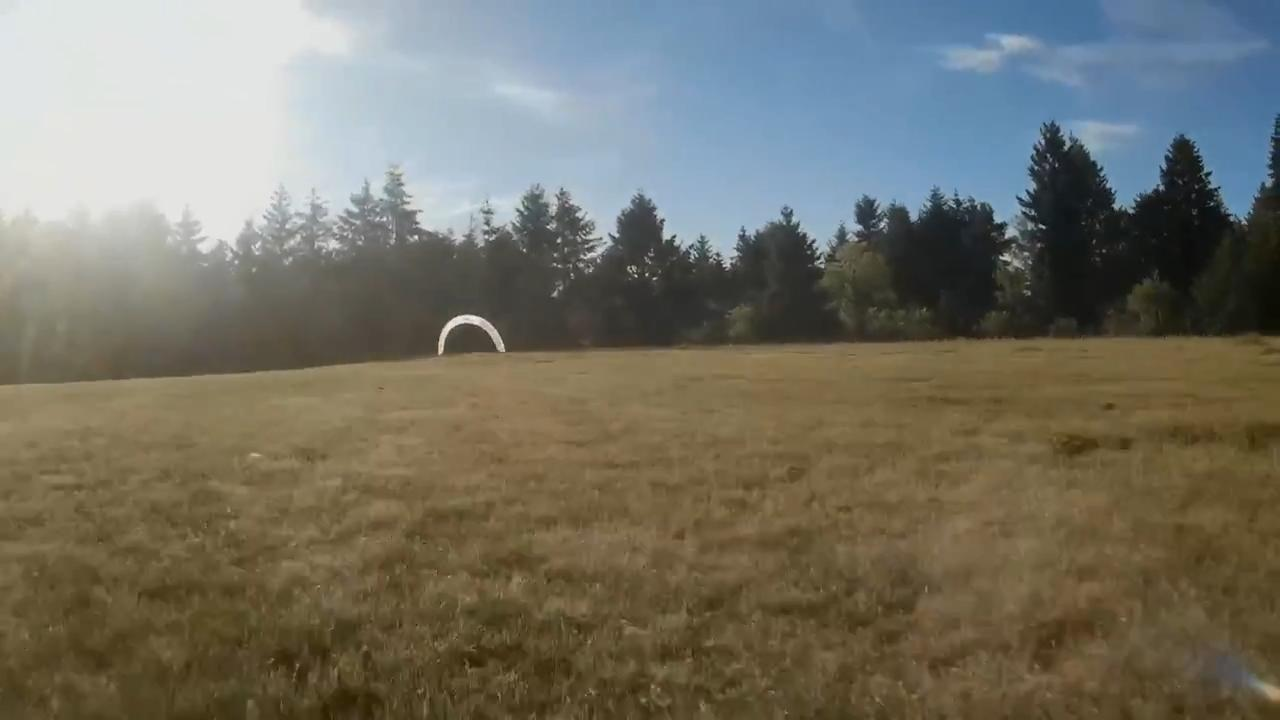gate: (438, 315, 503, 360)
